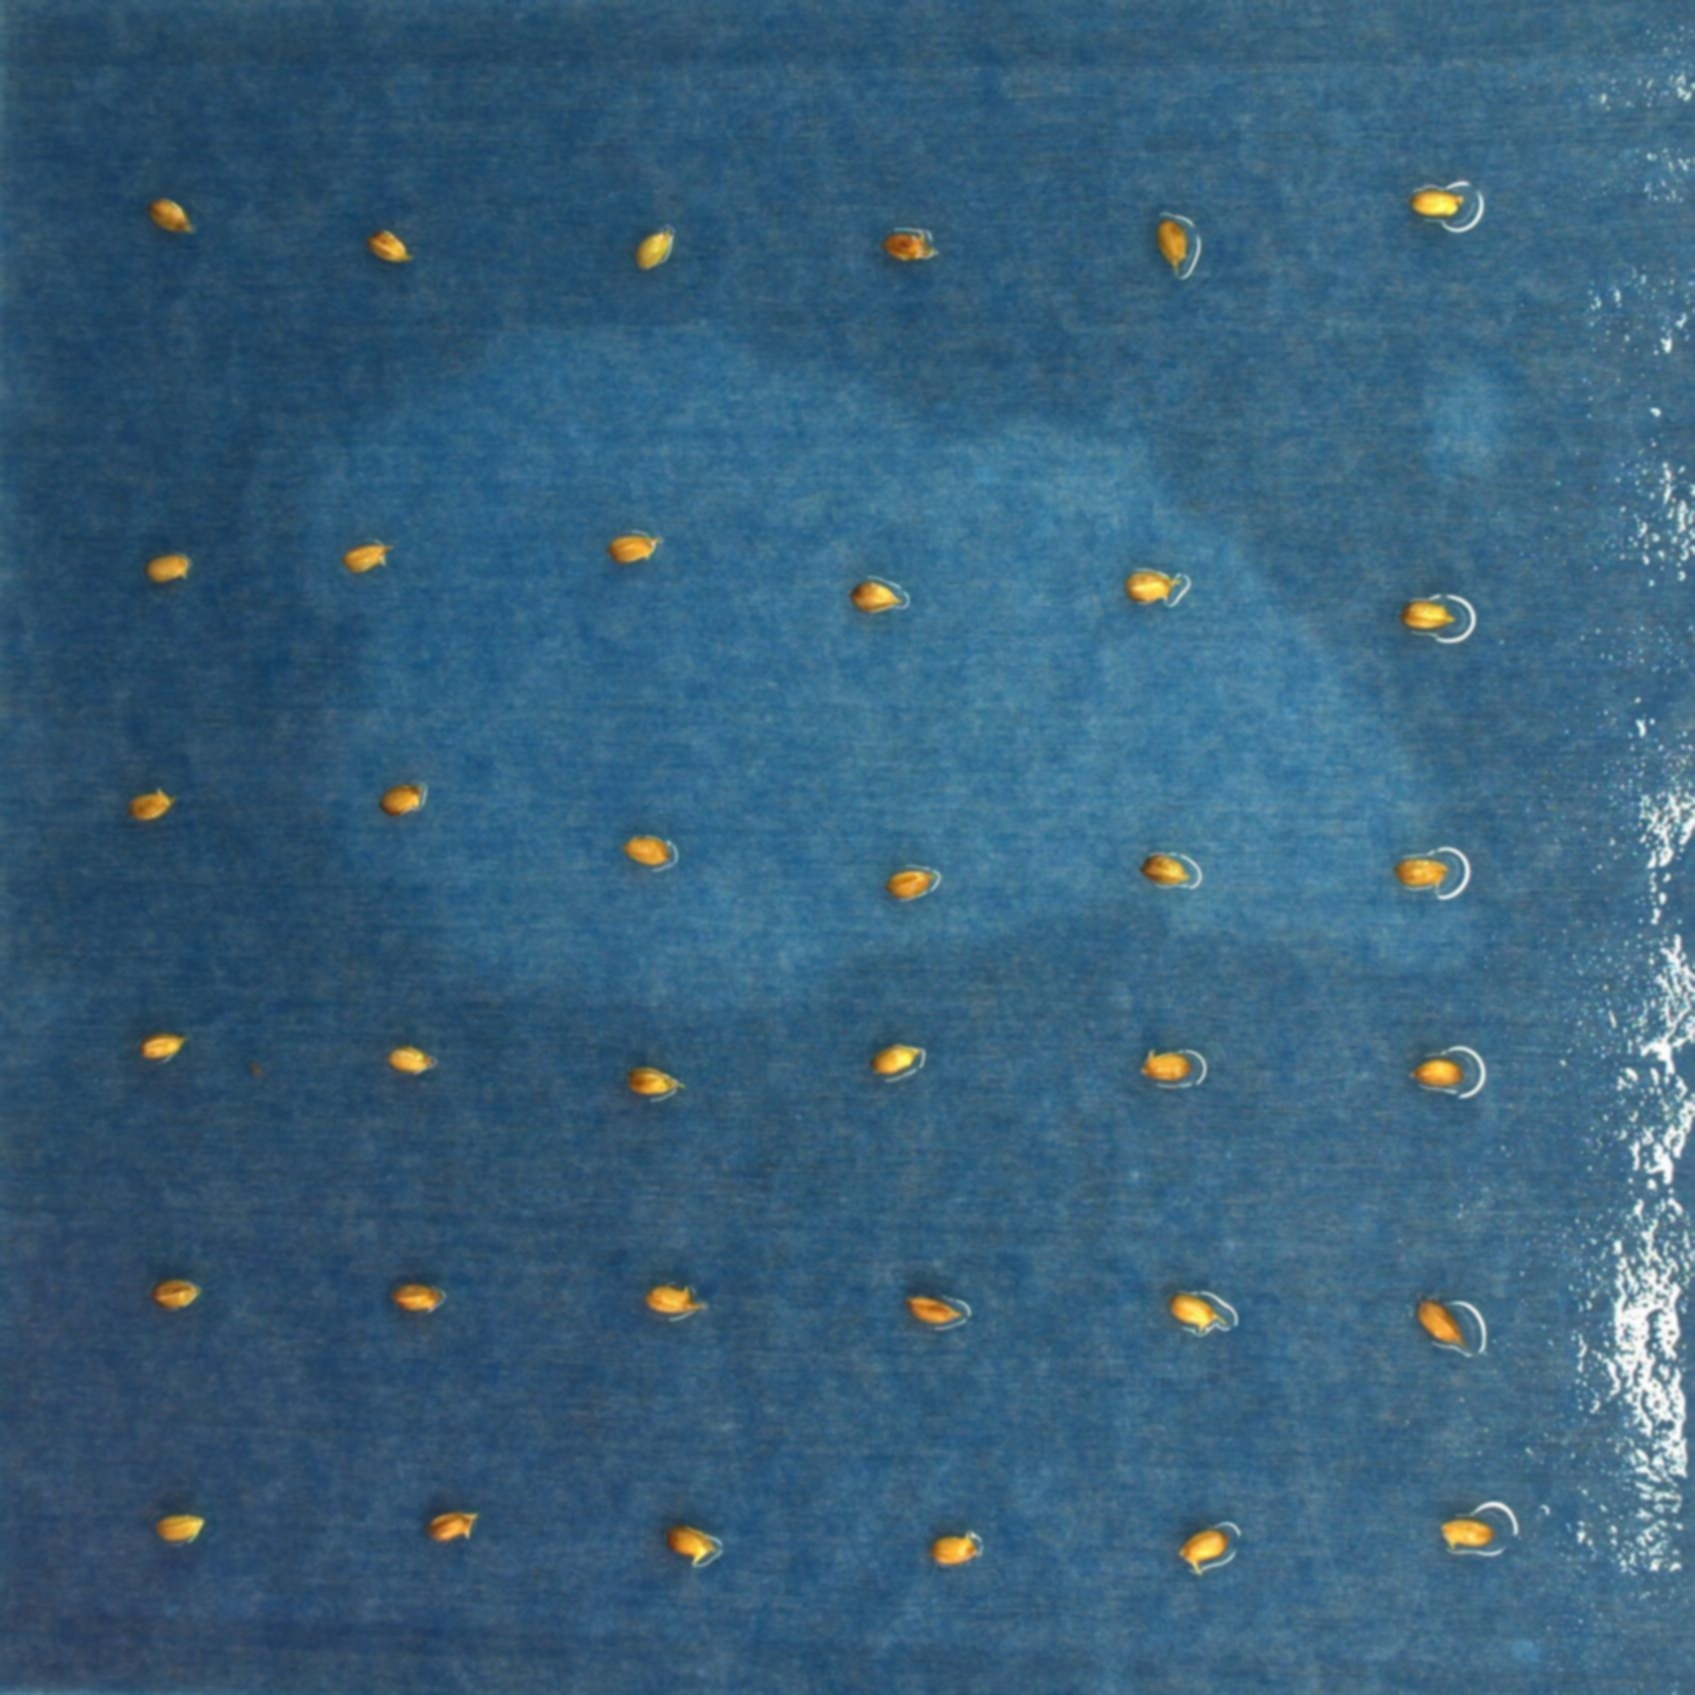not sprout: (664, 1524, 725, 1571), (1420, 1295, 1470, 1350), (1169, 1290, 1232, 1332), (849, 571, 910, 613), (1158, 213, 1198, 275), (1391, 851, 1454, 889), (1180, 1527, 1232, 1571), (1437, 1515, 1493, 1555), (345, 534, 393, 579), (630, 227, 681, 269), (906, 1288, 962, 1326), (1136, 851, 1194, 886), (1411, 1051, 1468, 1087), (622, 1068, 688, 1099), (425, 1509, 480, 1546), (149, 196, 199, 236), (930, 1529, 979, 1569), (386, 1277, 442, 1313), (147, 1271, 203, 1307), (127, 784, 179, 823), (624, 830, 677, 868), (1141, 1045, 1195, 1080), (1128, 563, 1180, 601), (1402, 594, 1458, 629), (869, 1042, 930, 1073), (643, 1284, 706, 1312), (157, 1506, 210, 1538), (144, 549, 194, 584), (1411, 183, 1467, 213), (141, 1028, 192, 1059), (608, 532, 661, 562), (886, 869, 939, 899), (369, 227, 413, 262), (883, 231, 938, 259), (379, 785, 425, 816), (390, 1045, 438, 1069)
